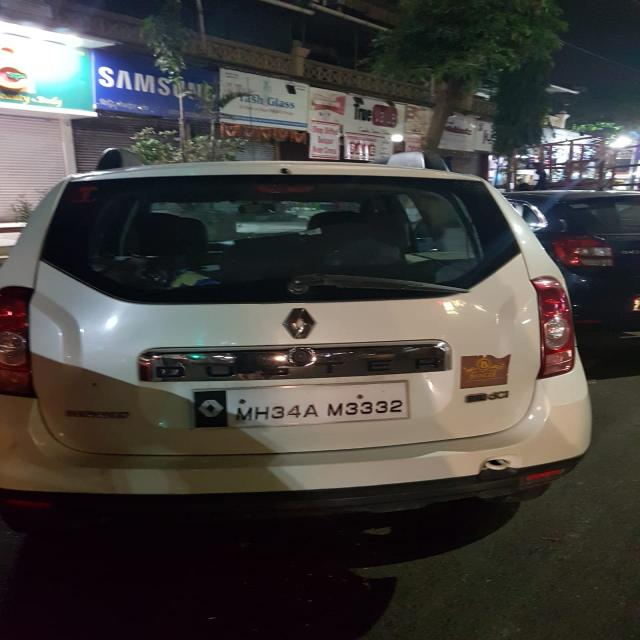Number-Plate: (188, 382, 409, 426)
